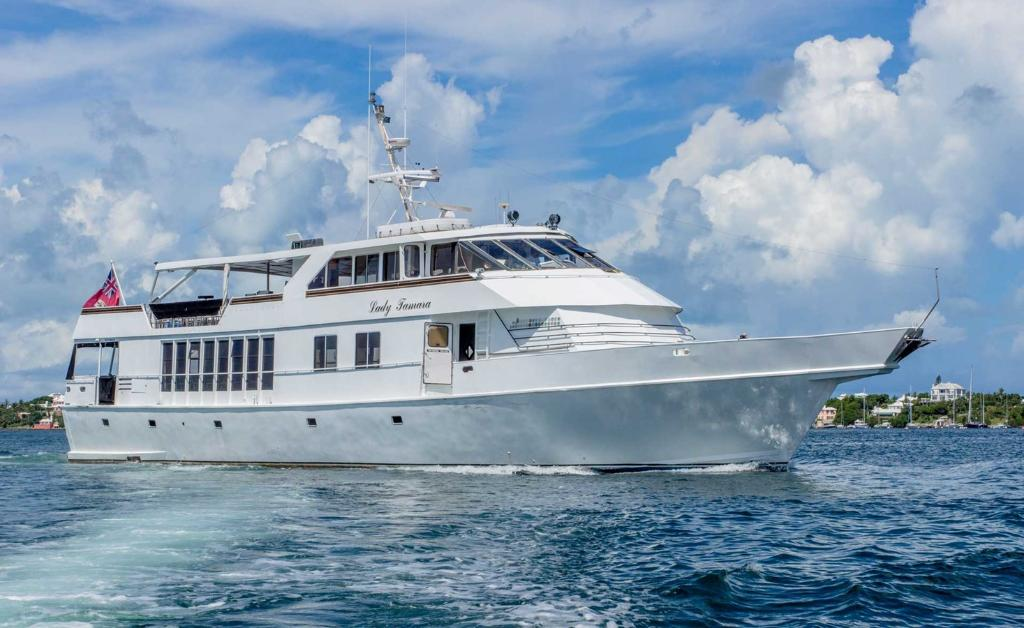PassengerShip: (46, 95, 958, 475)
